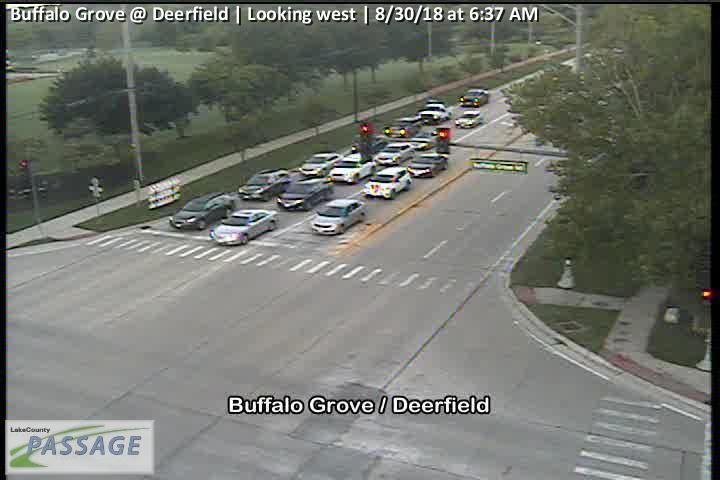Sedan: (168, 192, 236, 232), (210, 208, 280, 246), (308, 199, 367, 237), (276, 177, 335, 211), (238, 168, 289, 204), (364, 166, 412, 201), (330, 152, 377, 184), (298, 150, 343, 183), (409, 154, 448, 179), (375, 143, 417, 165), (418, 103, 453, 124), (459, 88, 489, 106), (455, 110, 481, 128)
